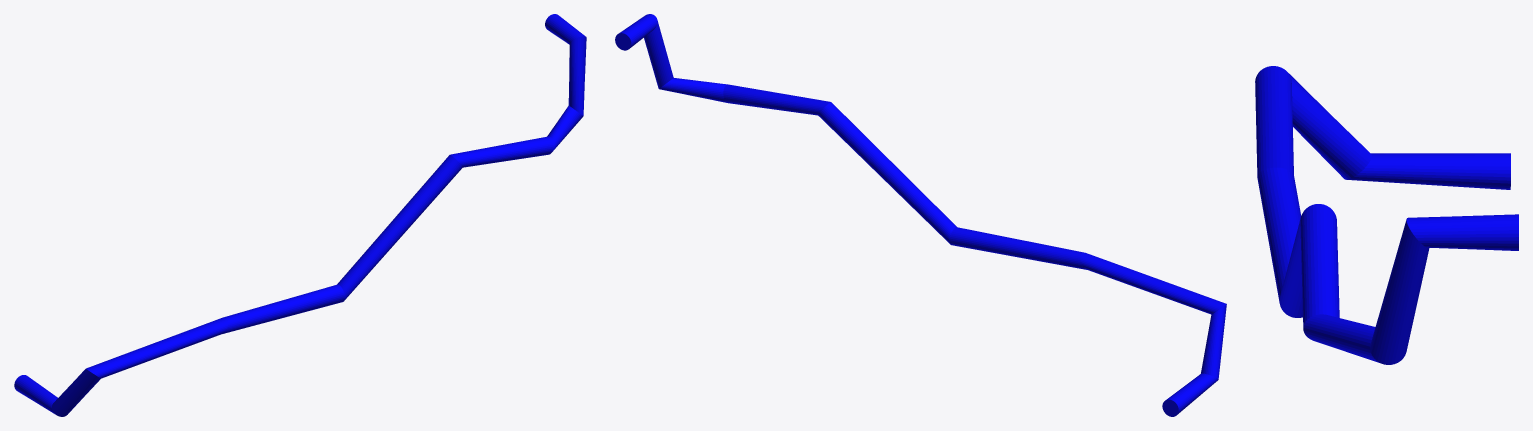
3 renders of one model, left to right at view 1: azimuth 30°, elevation 25°; view 2: azimuth 150°, elevation 25°; view 3: azimuth 270°, elevation 25°, orthographic. The views are drawn at different scales.
Parts seen in each view (by area): view 1: line10; view 2: line10; view 3: line10.
Part boxes in pixels (x1,y1,x2,y2): line10: (14, 14, 586, 416); line10: (615, 14, 1226, 416); line10: (1255, 66, 1518, 364).
Bounding box in the file's own units: 619 × 266 × 129.
